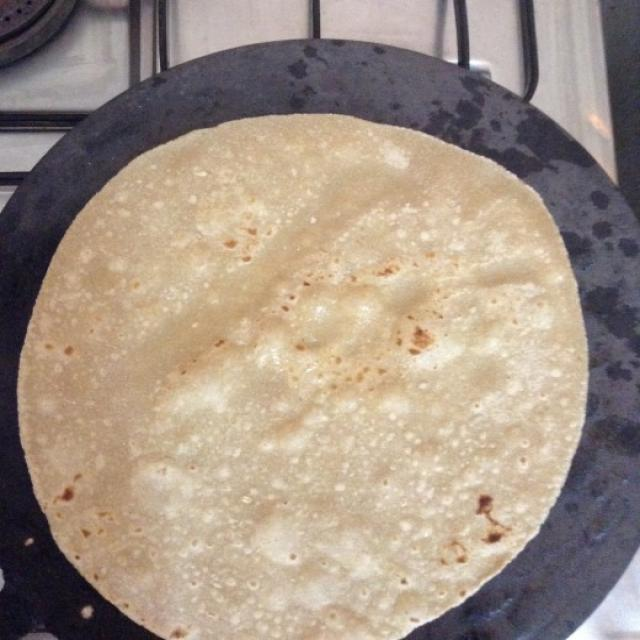roti: (17, 120, 584, 640)
